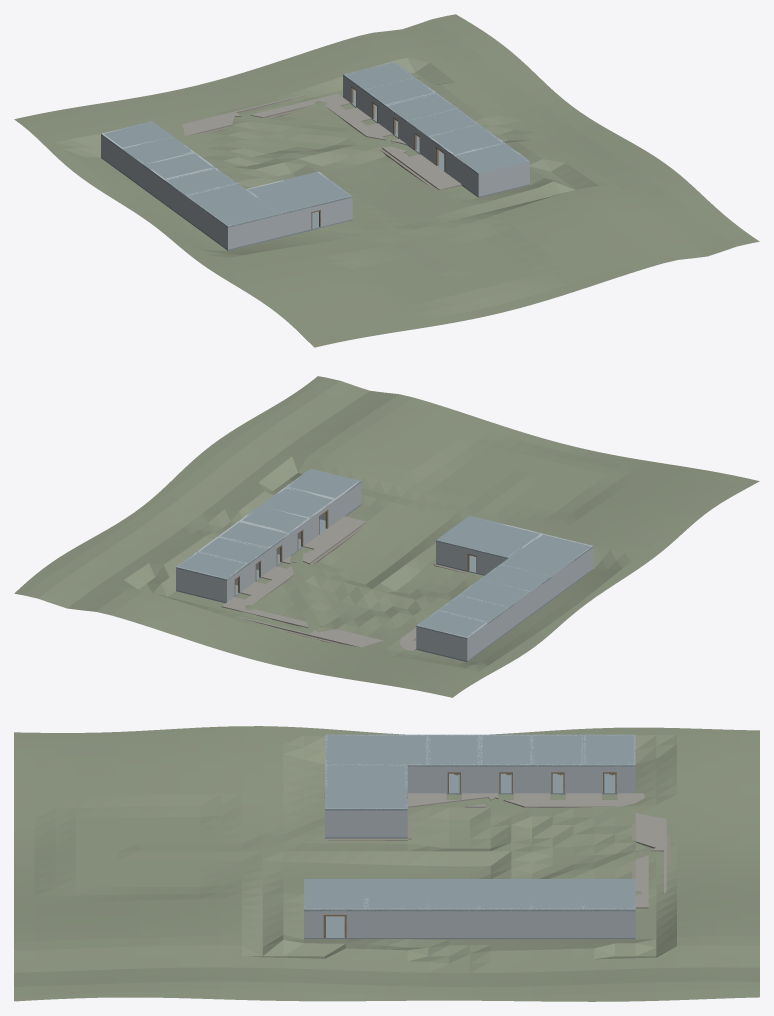
The model's file is clean-doorways.glb.
The picture shows the model from 3 angles, top to bottom: view 1: azimuth 30°, elevation 25°; view 2: azimuth 150°, elevation 25°; view 3: azimuth 270°, elevation 25°; orthographic projection. The views are drawn at different scales.
Parts seen in each view (by area): view 1: Authored roadside terrain, Ceiling cap office, Ceiling cap manager, Ceiling cap plant, Ceiling cap laundry, WLD-16 clean plant S end, WLD-16 clean manager S end, Ceiling cap room5, Ceiling cap room6, Ceiling cap room7, Ceiling cap room2, Ceiling cap room8 (+7 smaller); view 2: Authored roadside terrain, Ceiling cap office, Ceiling cap manager, Ceiling cap plant, Ceiling cap laundry, WLD-16 clean room1 N end, WLD-16 clean room5 N end, Ceiling cap room5, Ceiling cap room1, Ceiling cap room2, Ceiling cap room4, Ceiling cap room3 (+7 smaller); view 3: Authored roadside terrain, Ceiling cap office, Ceiling cap manager, WLD-16 clean office E end, Ceiling cap laundry, Ceiling cap plant, Ceiling cap room4, Ceiling cap room8, Ceiling cap room2, Ceiling cap room3, Ceiling cap room7, Ceiling cap room5 (+24 smaller).
Boxes of the visible parts, x1,y1,x2,y2 form: Authored roadside terrain: (14,14,759,347); Ceiling cap office: (246,171,352,214); Ceiling cap manager: (185,183,278,227); Ceiling cap plant: (453,142,529,174); Ceiling cap laundry: (428,124,504,155); WLD-16 clean plant S end: (477,161,529,196); WLD-16 clean manager S end: (227,214,279,249); Ceiling cap room5: (343,62,415,90); Ceiling cap room6: (364,77,435,105); Ceiling cap room7: (385,93,457,121); Ceiling cap room2: (122,136,193,165); Ceiling cap room8: (407,108,478,136); Authored roadside terrain: (14,376,759,697); Ceiling cap office: (436,515,541,558); Ceiling cap manager: (501,533,593,577); Ceiling cap plant: (286,468,361,498); Ceiling cap laundry: (260,487,336,517); WLD-16 clean room1 N end: (416,625,468,660); WLD-16 clean room5 N end: (176,566,227,602); Ceiling cap room5: (176,552,247,580); Ceiling cap room1: (416,610,487,639); Ceiling cap room2: (438,595,509,623); Ceiling cap room4: (479,564,551,591); Ceiling cap room3: (459,579,529,608); Authored roadside terrain: (14,726,759,1001); Ceiling cap office: (325,765,407,810); Ceiling cap manager: (325,734,428,766); WLD-16 clean office E end: (327,808,405,837); Ceiling cap laundry: (366,879,428,911); Ceiling cap plant: (304,879,366,911); Ceiling cap room4: (428,734,480,766); Ceiling cap room8: (428,879,480,911); Ceiling cap room2: (532,734,583,766); Ceiling cap room3: (480,734,531,766); Ceiling cap room7: (480,879,531,911); Ceiling cap room5: (584,879,635,911).
Bounding box in the file's own units: 61.8 × 3.76 × 72.
19 materials, 13 textured.
